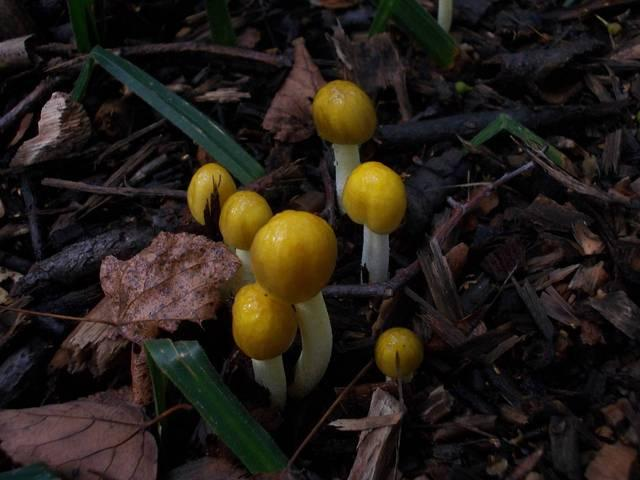Edible Mushroom: (185, 153, 338, 373), (311, 78, 377, 214), (341, 160, 407, 284)
